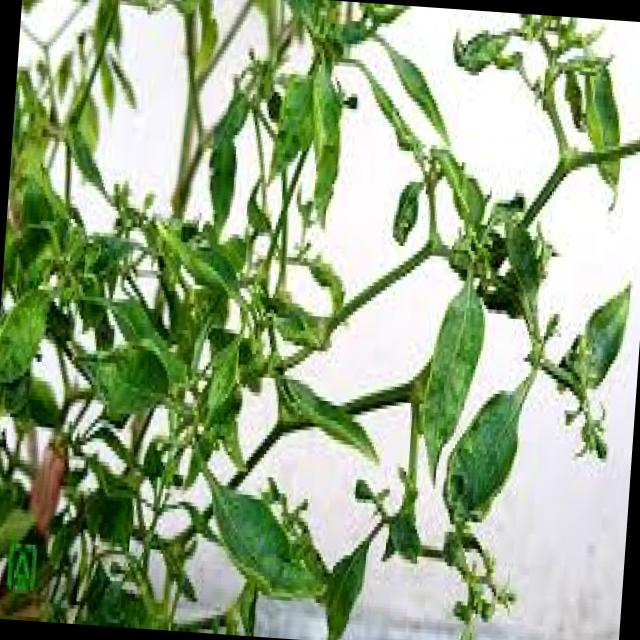Chilli_Leaf_Curl: (0, 0, 640, 640), (189, 457, 331, 603), (411, 270, 488, 487), (438, 382, 520, 524)
